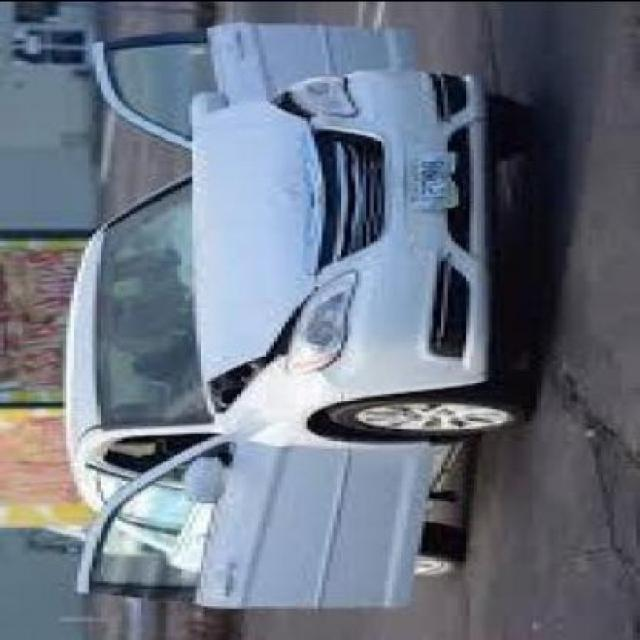damage: (192, 81, 325, 420)
